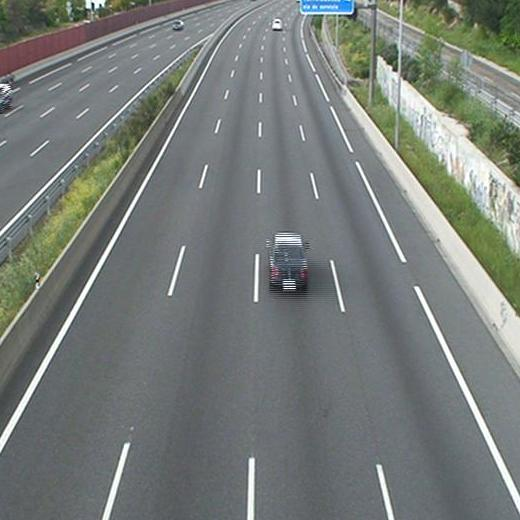car: (269, 233, 307, 285), (271, 19, 283, 30)
